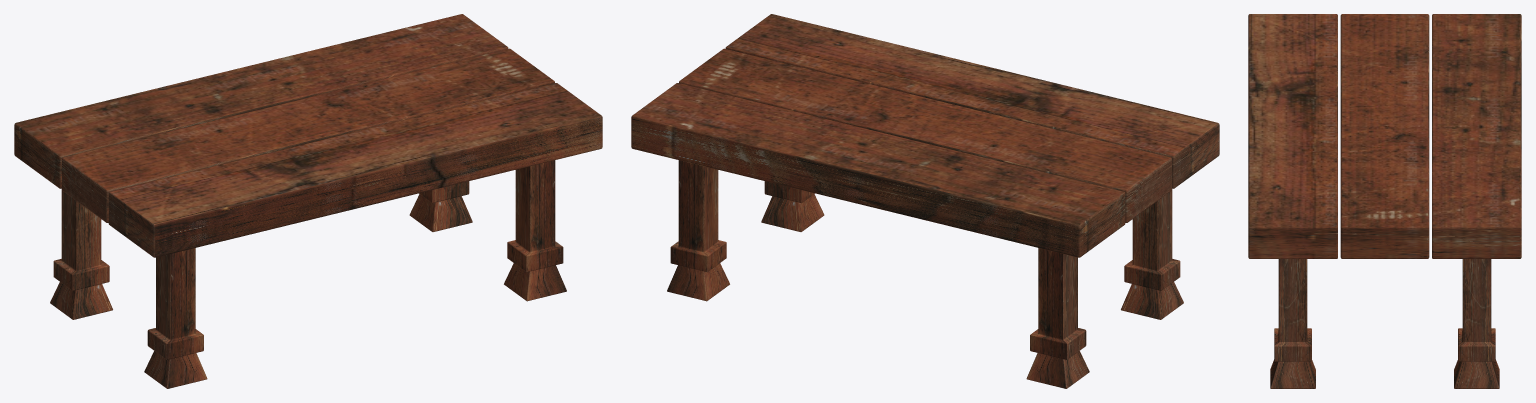
File: Table.glb
3 views of the same model, side by side, from view 1: azimuth 30°, elevation 25°; view 2: azimuth 150°, elevation 25°; view 3: azimuth 270°, elevation 25° (orthographic). The views are drawn at different scales.
Parts seen in each view (by area): view 1: Table, Table_legs; view 2: Table, Table_legs; view 3: Table, Table_legs.
Boxes of the visible parts, left/top/right/bottom form: Table: left=14, top=14, right=602, bottom=257; Table_legs: left=50, top=160, right=566, bottom=388; Table: left=631, top=14, right=1219, bottom=257; Table_legs: left=667, top=160, right=1183, bottom=388; Table: left=1248, top=14, right=1521, bottom=258; Table_legs: left=1270, top=259, right=1499, bottom=388.
Size of the model in its own units: 2.85 by 1.08 by 1.54.
1 material, 1 textured.
